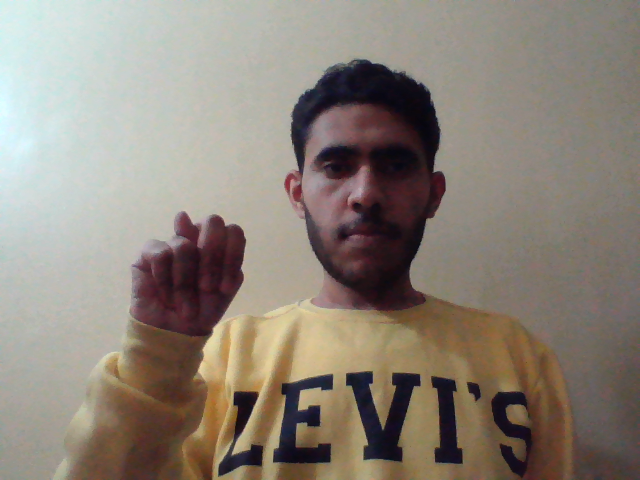N: (128, 209, 253, 341)
